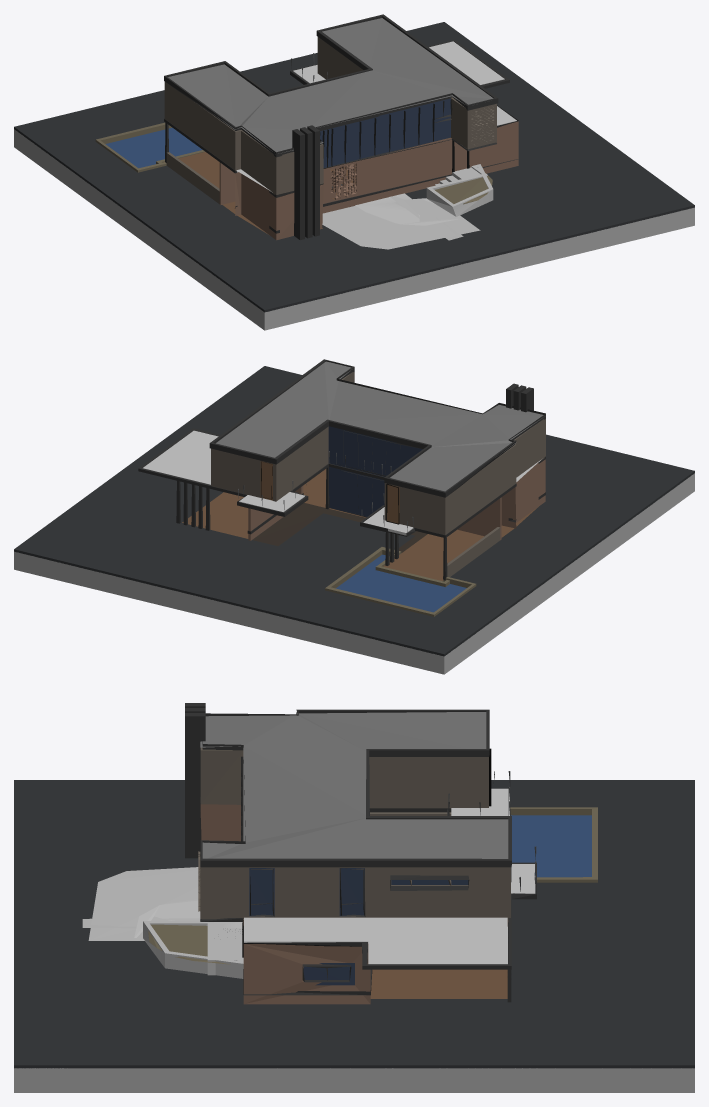
File: pool-villa.lod1.glb
The picture shows the model from 3 angles, top to bottom: view 1: azimuth 30°, elevation 25°; view 2: azimuth 150°, elevation 25°; view 3: azimuth 270°, elevation 25°; orthographic projection. The views are drawn at different scales.
Parts seen in each view (by area): view 1: Box001_Material #8_0; view 2: Box001_Material #8_0; view 3: Box001_Material #8_0.
Boxes of the visible parts, <box> form: Box001_Material #8_0: <box>14,14,694,330</box>; Box001_Material #8_0: <box>14,359,694,674</box>; Box001_Material #8_0: <box>14,703,694,1092</box>.
Size of the model in its own units: 34.7 by 9.62 by 35.
